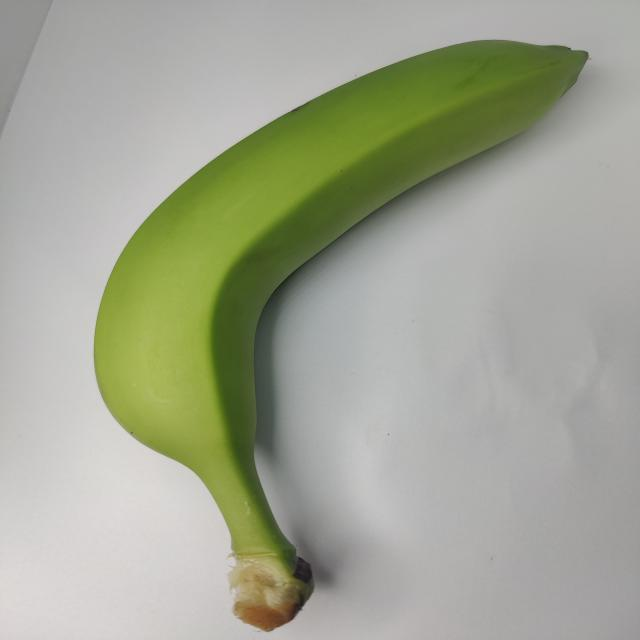raw: (47, 23, 610, 625)
